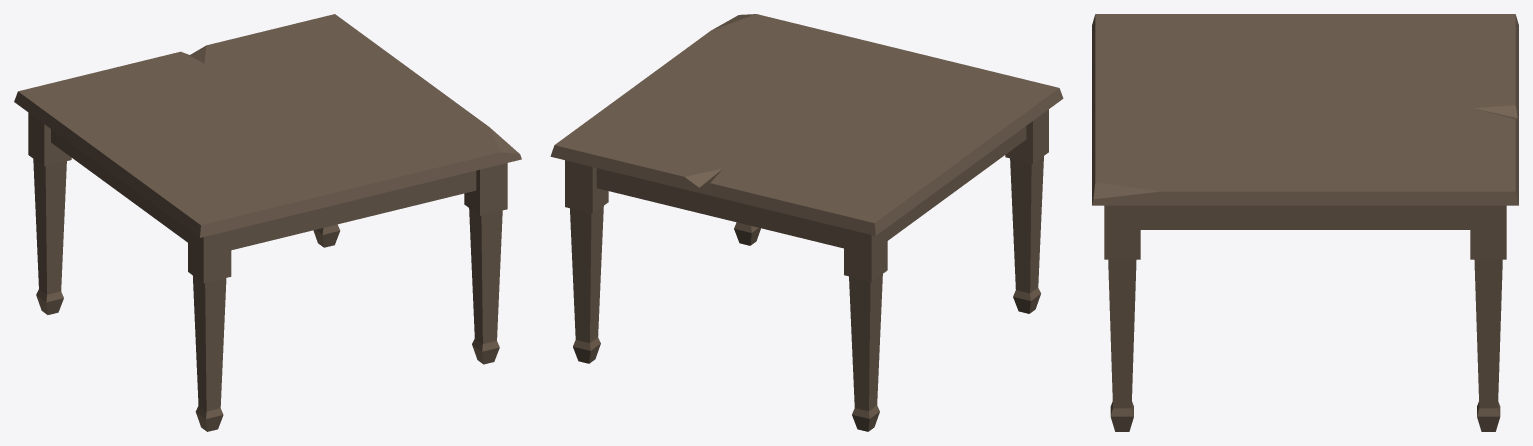
Rendered from Table.fbx.
The picture shows the model from 3 angles, left to right: view 1: azimuth 30°, elevation 25°; view 2: azimuth 150°, elevation 25°; view 3: azimuth 270°, elevation 25°; orthographic projection. The views are drawn at different scales.
Visible parts, largest first — view 1: Table; view 2: Table; view 3: Table.
Part boxes in pixels (x1=…): Table: x1=14, y1=14, x2=521, y2=431; Table: x1=550, y1=14, x2=1063, y2=431; Table: x1=1092, y1=14, x2=1518, y2=431.
Bounding box in the file's own units: 1.27 × 1.27 × 0.8141.
